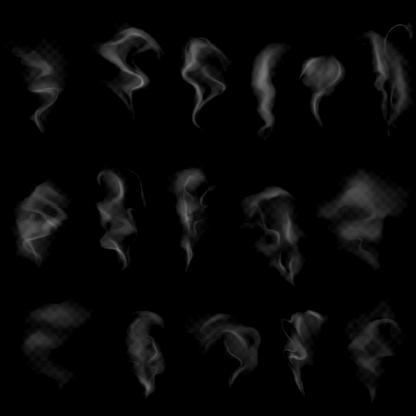smoke: (330, 168, 400, 272), (341, 296, 408, 404), (18, 300, 92, 390), (241, 187, 303, 286), (13, 36, 70, 136), (100, 25, 155, 122), (364, 23, 410, 134), (180, 37, 233, 131), (16, 177, 70, 266), (96, 163, 139, 270), (202, 310, 262, 386), (169, 164, 210, 272), (280, 303, 328, 391), (123, 307, 167, 399), (298, 53, 348, 130), (252, 38, 290, 136)
